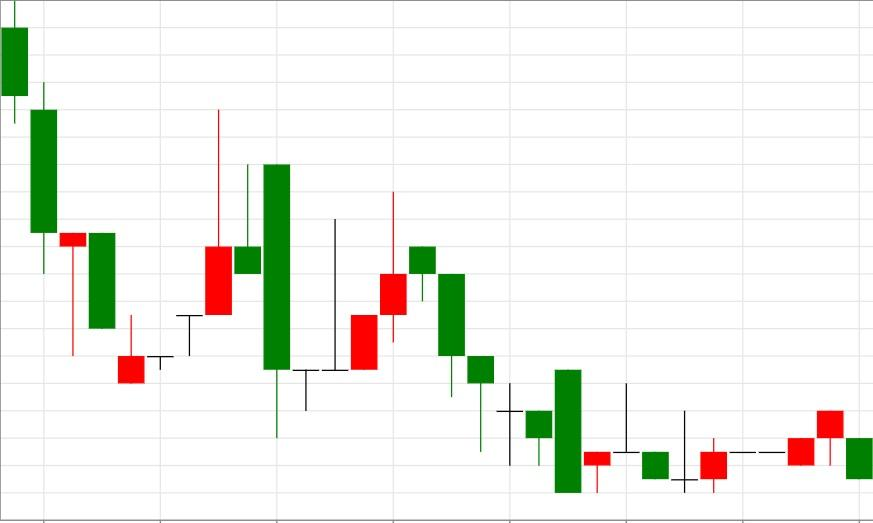morning_star_rise: (554, 369, 728, 493)
shooting_star_fall: (118, 109, 263, 384)
three_black_crows_fall: (291, 192, 495, 453)
